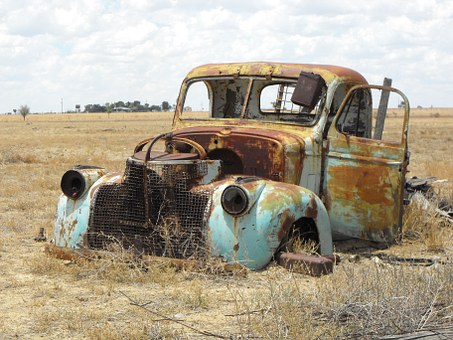rust: (64, 51, 415, 274)
